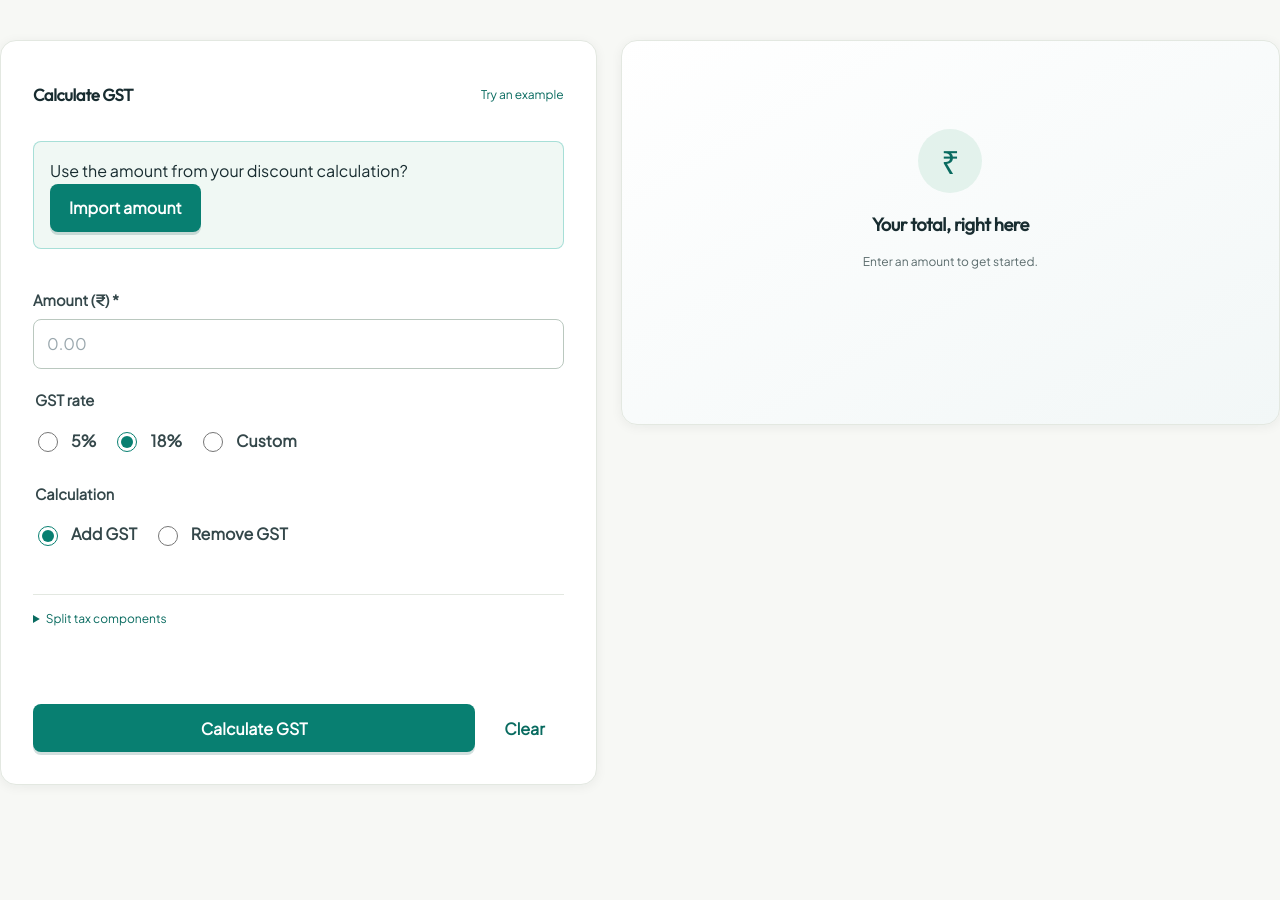
Test: focused GST workspace › imports a discount result only after an explicit action
Check: the text "Use the amount from your discount calculation?" is shown, box [50,160,408,181]
Check: the field labelled "Amount (₹) *" is empty, box [33,319,564,369]
Click the button "Import amount".
click(125, 208)  # box [50,184,201,232]
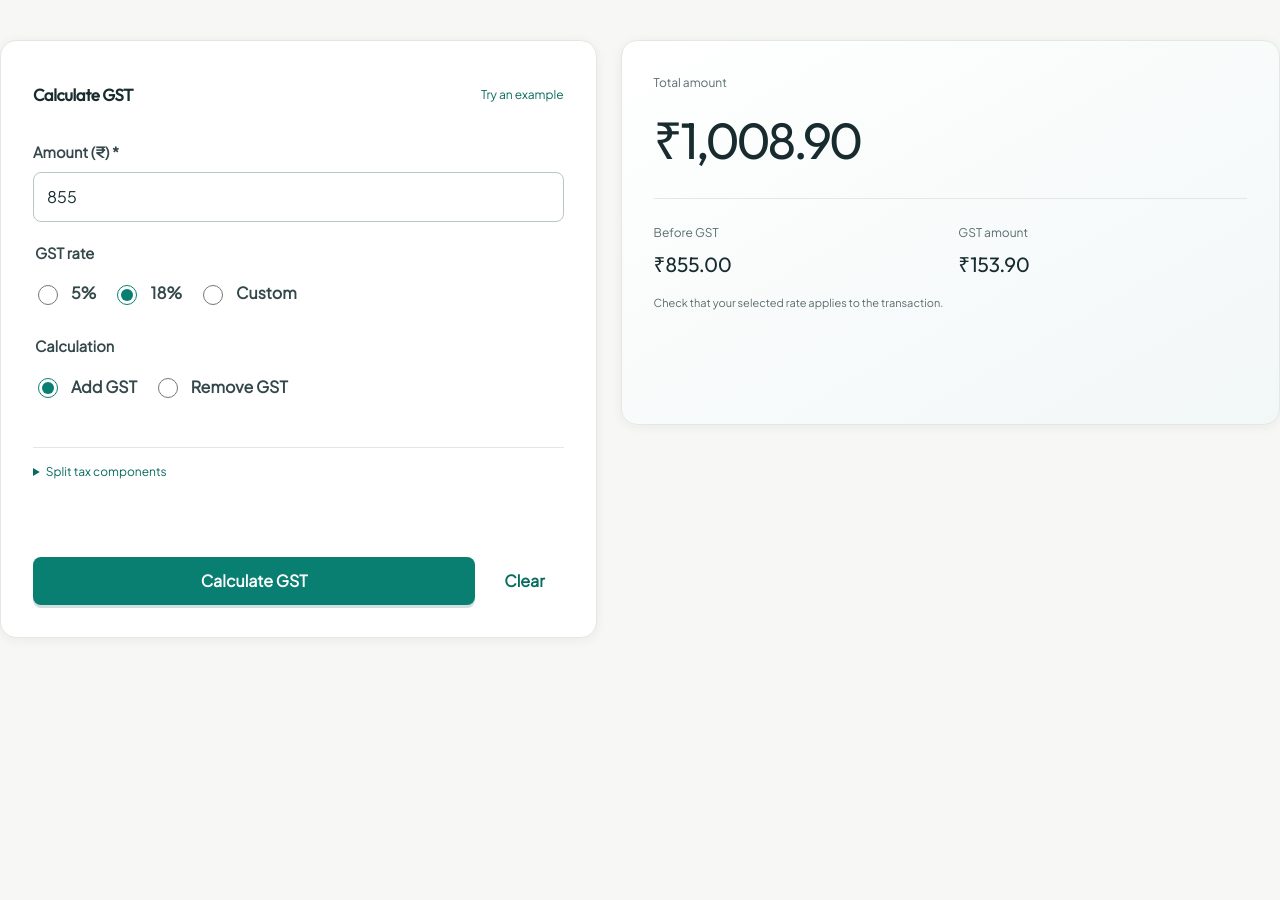
Check: the field labelled "Amount (₹) *" holds "855", box [33,172,564,222]
